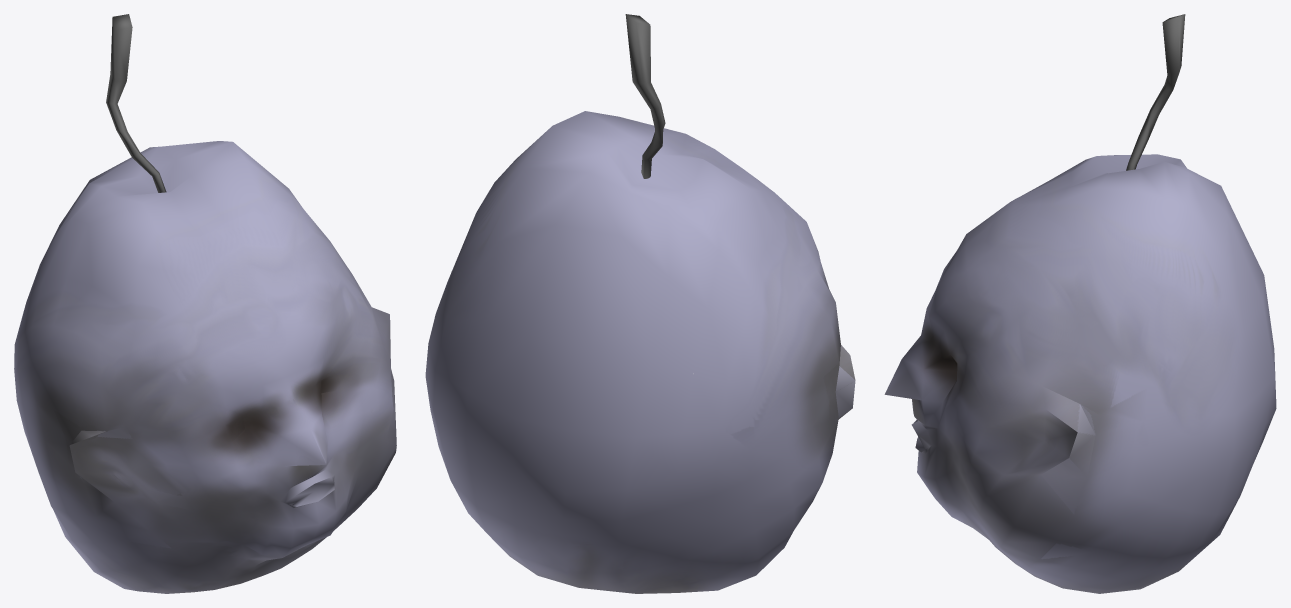
The model's file is malino.fbx.
3 renders of one model, left to right at view 1: azimuth 30°, elevation 25°; view 2: azimuth 150°, elevation 25°; view 3: azimuth 270°, elevation 25°, orthographic. The views are drawn at different scales.
Parts seen in each view (by area): view 1: Cube, Cylinder; view 2: Cube, Cylinder; view 3: Cube, Cylinder.
Boxes of the visible parts, left/top/right/bottom form: Cube: left=14, top=141, right=396, bottom=593; Cylinder: left=106, top=14, right=166, bottom=192; Cube: left=425, top=111, right=855, bottom=593; Cylinder: left=625, top=14, right=665, bottom=178; Cube: left=884, top=154, right=1276, bottom=593; Cylinder: left=1126, top=14, right=1185, bottom=170.
Size of the model in its own units: 207 by 316 by 210.
